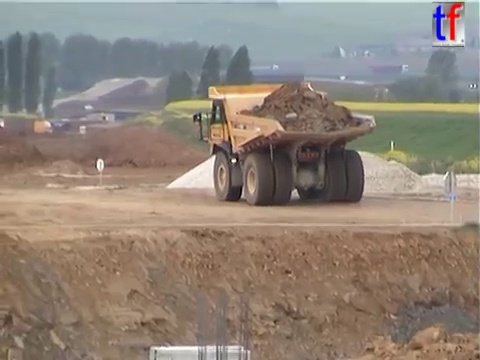truck: (190, 80, 378, 208)
